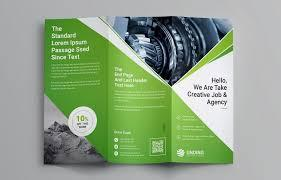paper: (44, 16, 236, 165)
